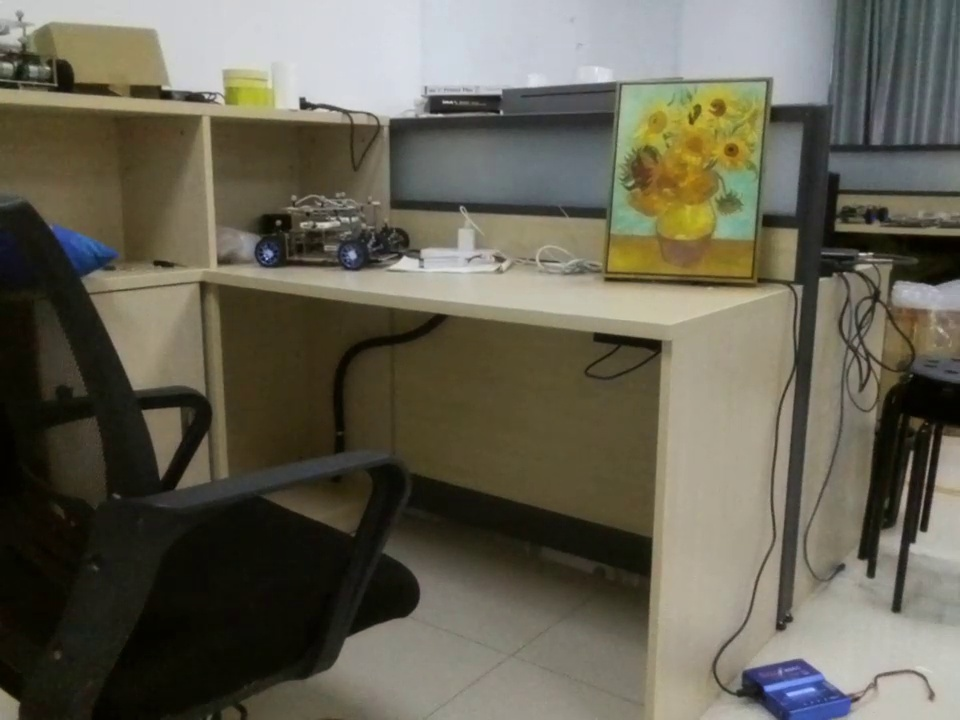painting: (605, 79, 773, 287)
